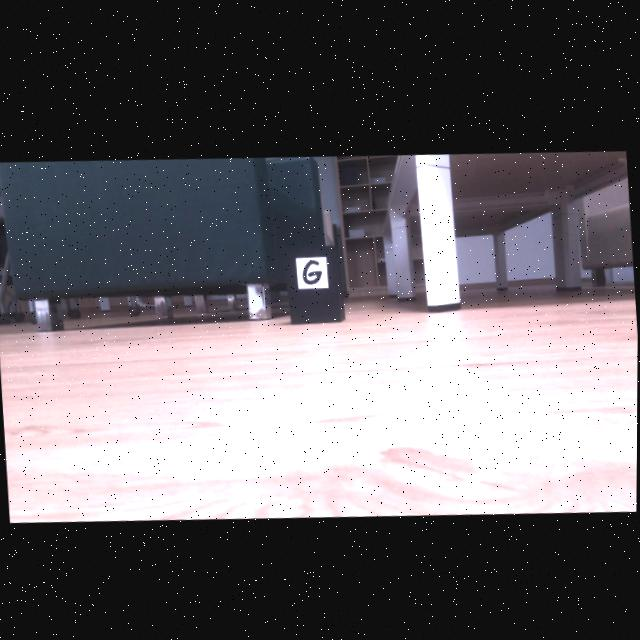G: (303, 256, 322, 281)
